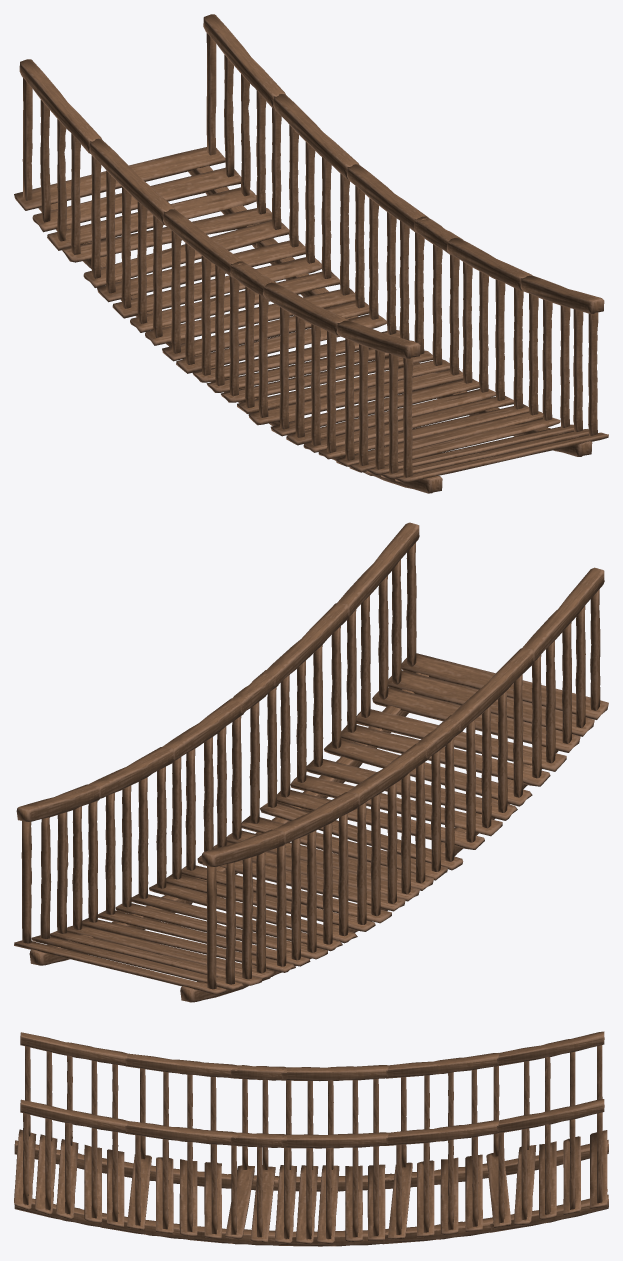
Rendered from SM_bridge_01.fbx.
3 renders of one model, top to bottom at view 1: azimuth 30°, elevation 25°; view 2: azimuth 150°, elevation 25°; view 3: azimuth 270°, elevation 25°, orthographic. The views are drawn at different scales.
Visible parts, largest first — view 1: bridge_01; view 2: bridge_01; view 3: bridge_01.
Part boxes in pixels (left/top/right/bottom): bridge_01: left=14, top=14, right=608, bottom=493; bridge_01: left=14, top=522, right=608, bottom=1002; bridge_01: left=14, top=1031, right=608, bottom=1246.
Bounding box in the file's own units: 306 × 285 × 1025.
